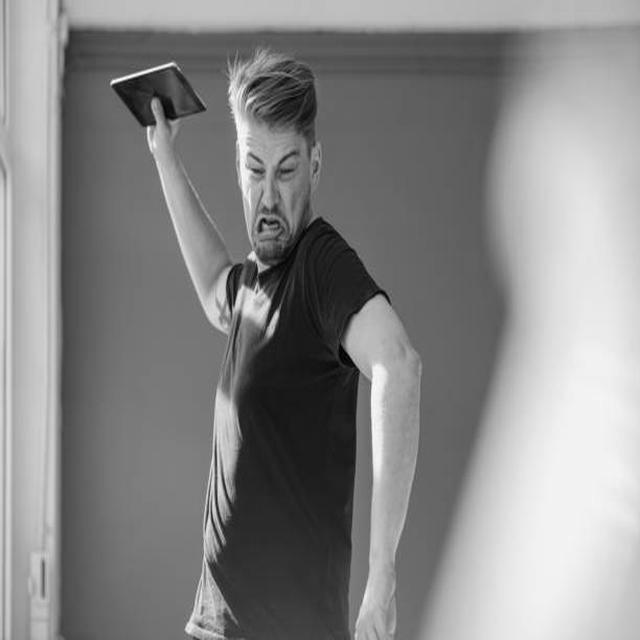Angry: (240, 124, 312, 261)
